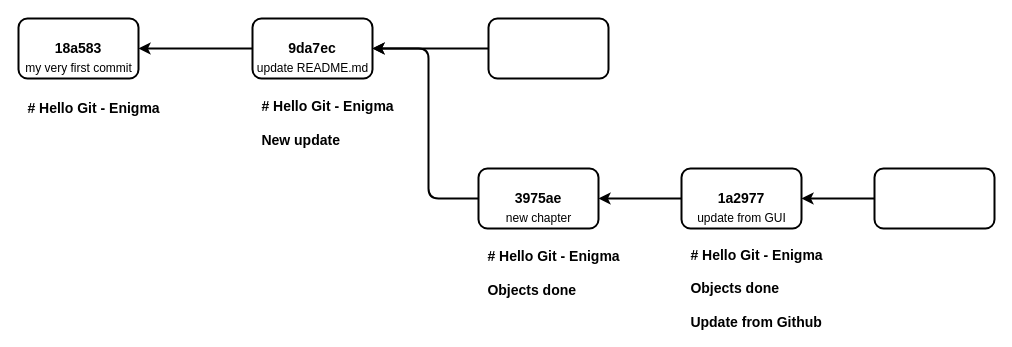
The diagram is 1012 pixels wide and 347 high, and some of its shapes have lost their labels. Each missing label, with the centre of its shape:
"Dev" belongs at (x=934, y=198).
"Master" belongs at (x=548, y=48).
